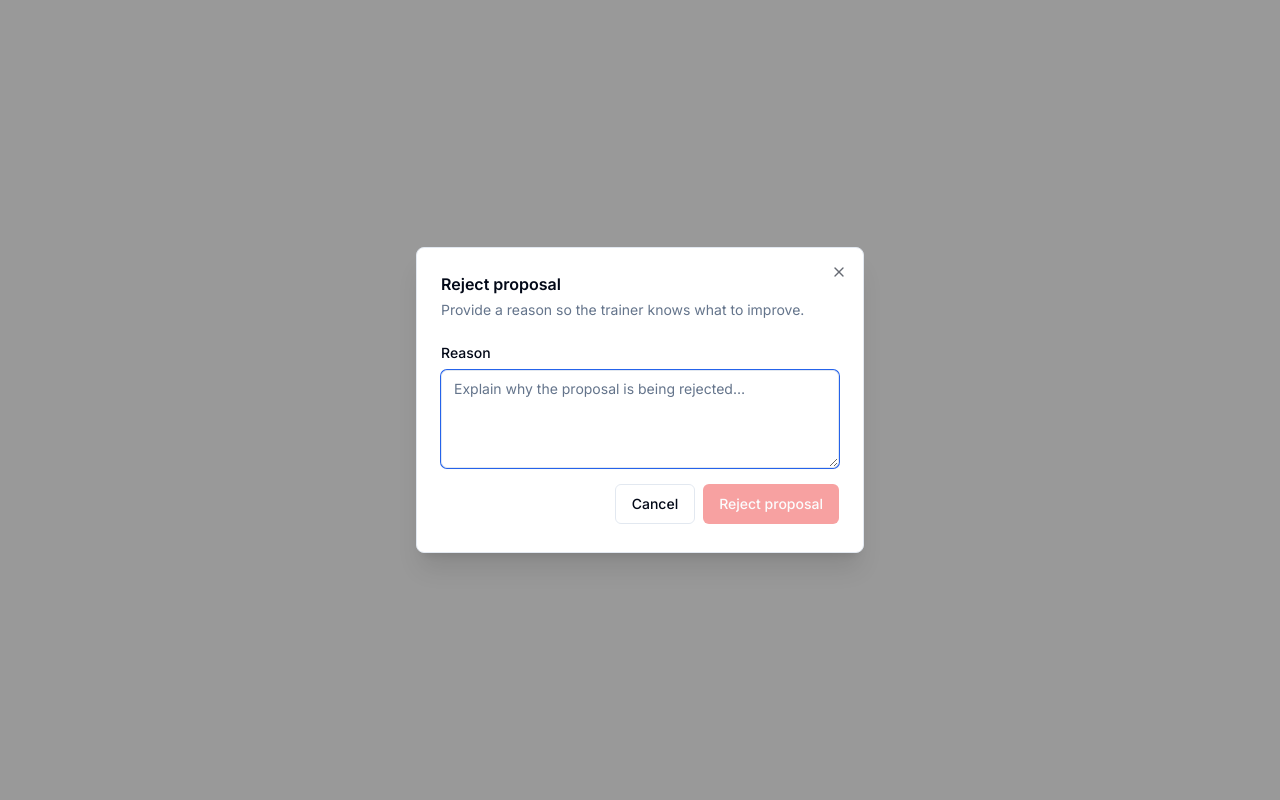
Test: ProposalRejectDialog › shows an error message when mutateAsync throws
This screenshot has width=1280, height=800.
Type "Some reason" into the text box labelled "Reason". click: (640,419)
box: [441, 370, 839, 468]
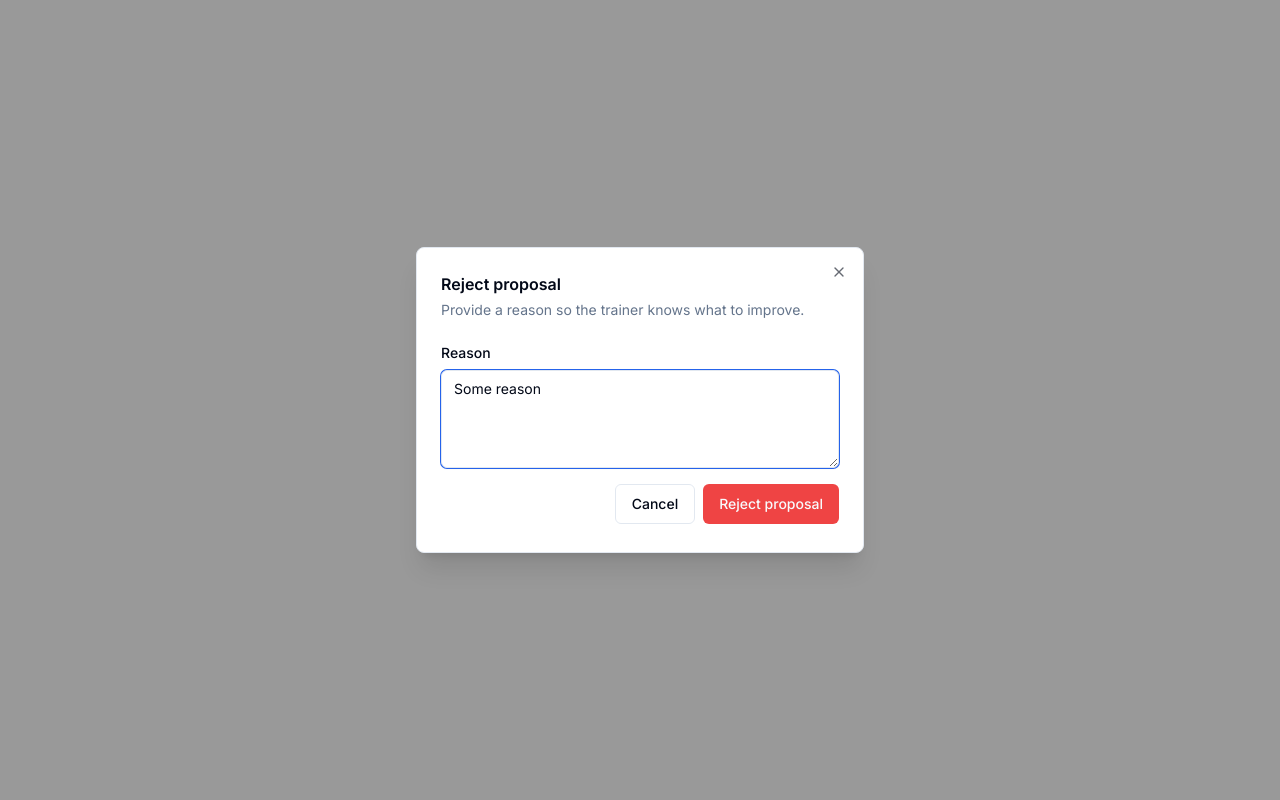
Click the button "Reject proposal". click: (771,504)
box: [703, 484, 839, 524]
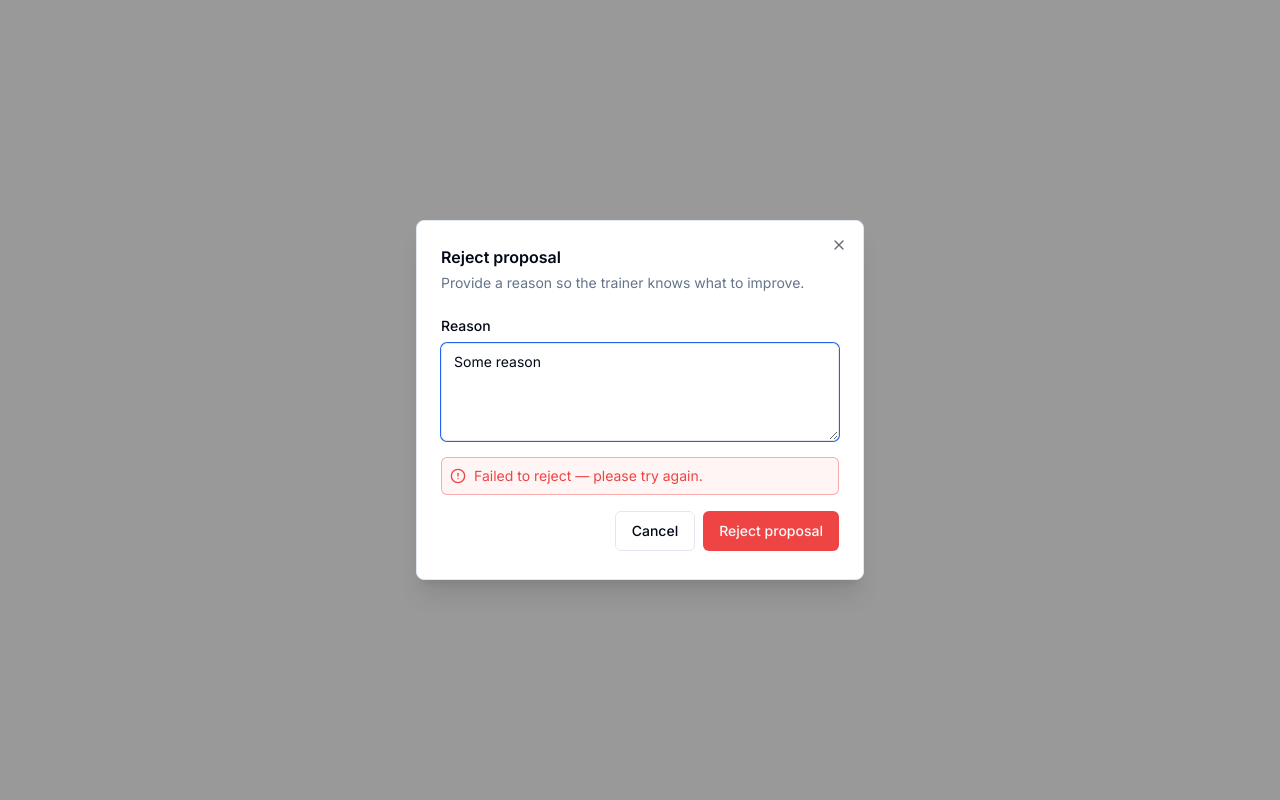
expect the text "Failed to reject — please try again." is shown: met, box [474, 466, 703, 486]
